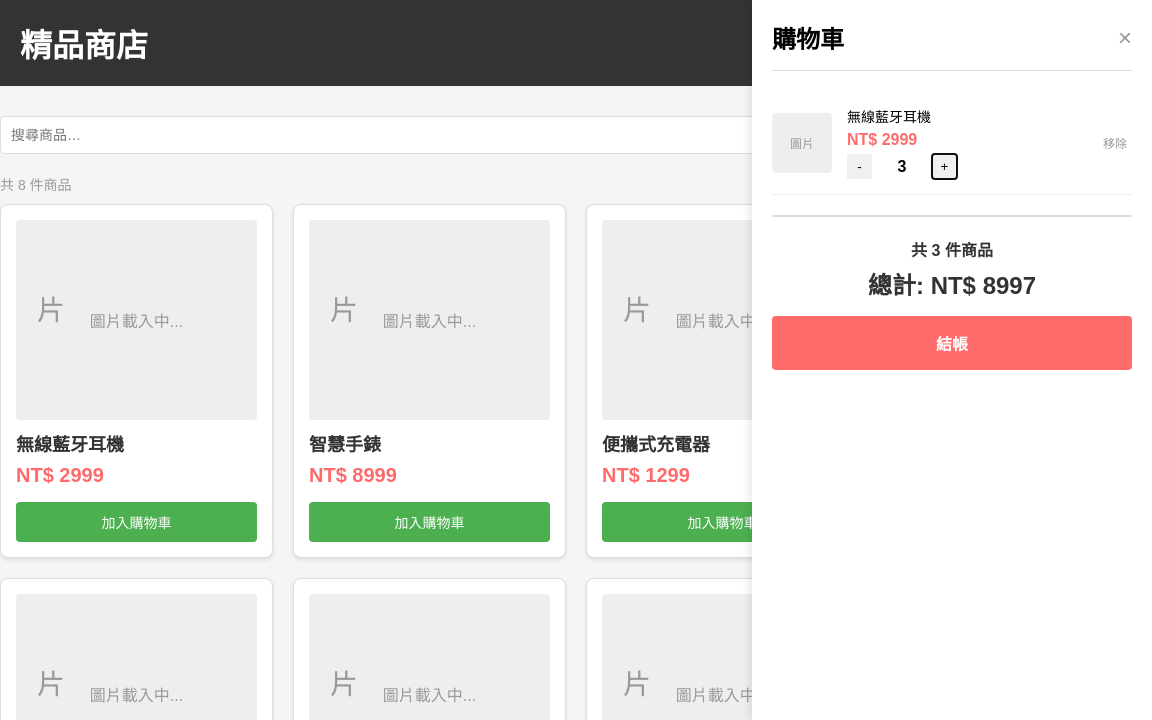
Ticket 06: change quantity repeatedly or type it directly › pressing − repeatedly lowers the quantity each time with the drawer open
Earlier steps of the test are not shown.
Step 1. Click the button "+" → (944, 166), box top-left (932, 154), bottom-right (957, 179)
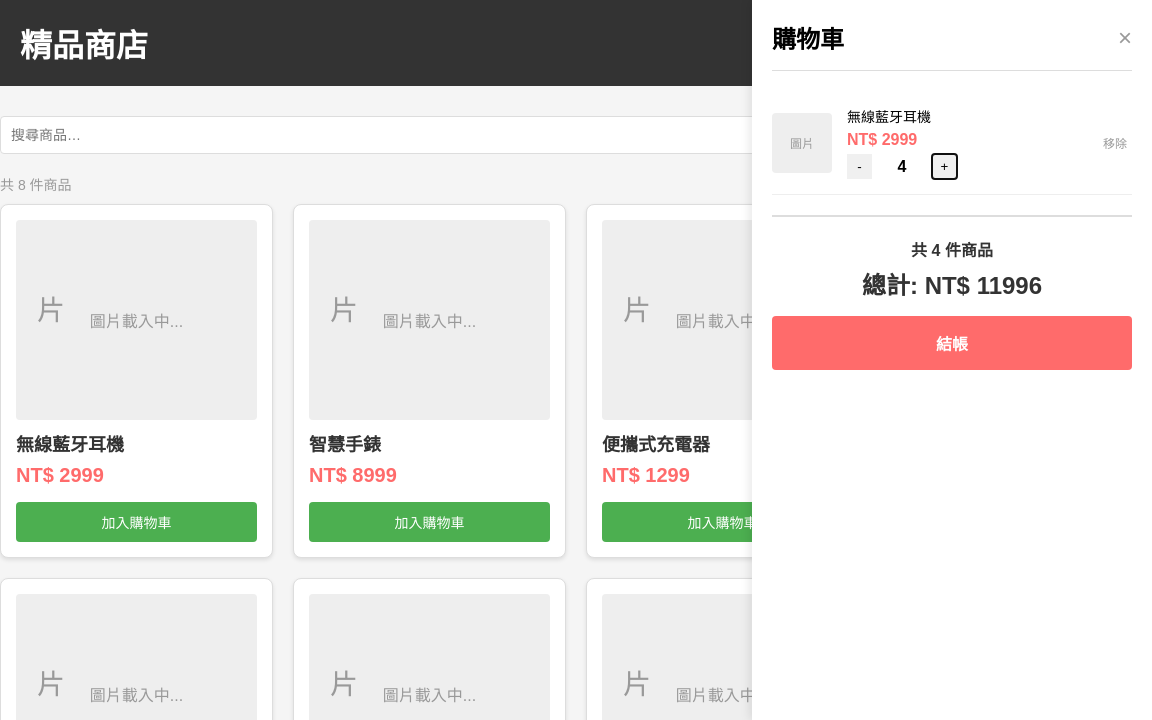
Step 2. Click the button "+" → (944, 166), box top-left (932, 154), bottom-right (957, 179)
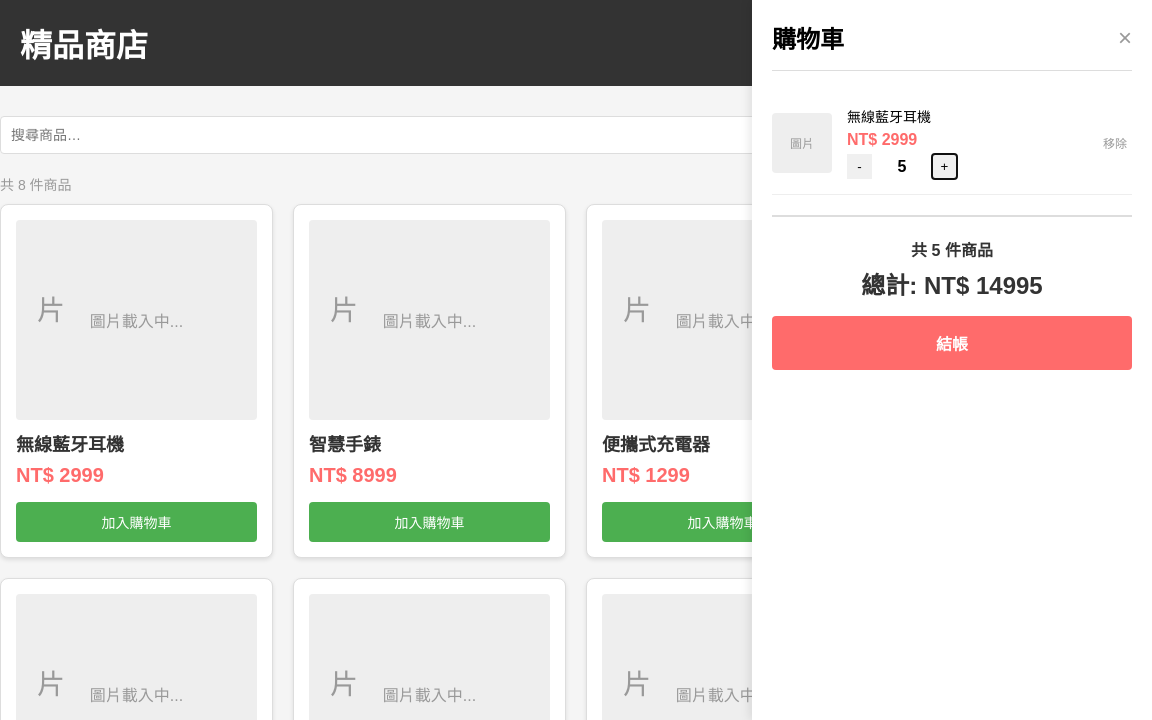
Step 3. Click the button named "減少 無線藍牙耳機 數量" → (860, 166), box top-left (847, 154), bottom-right (872, 179)
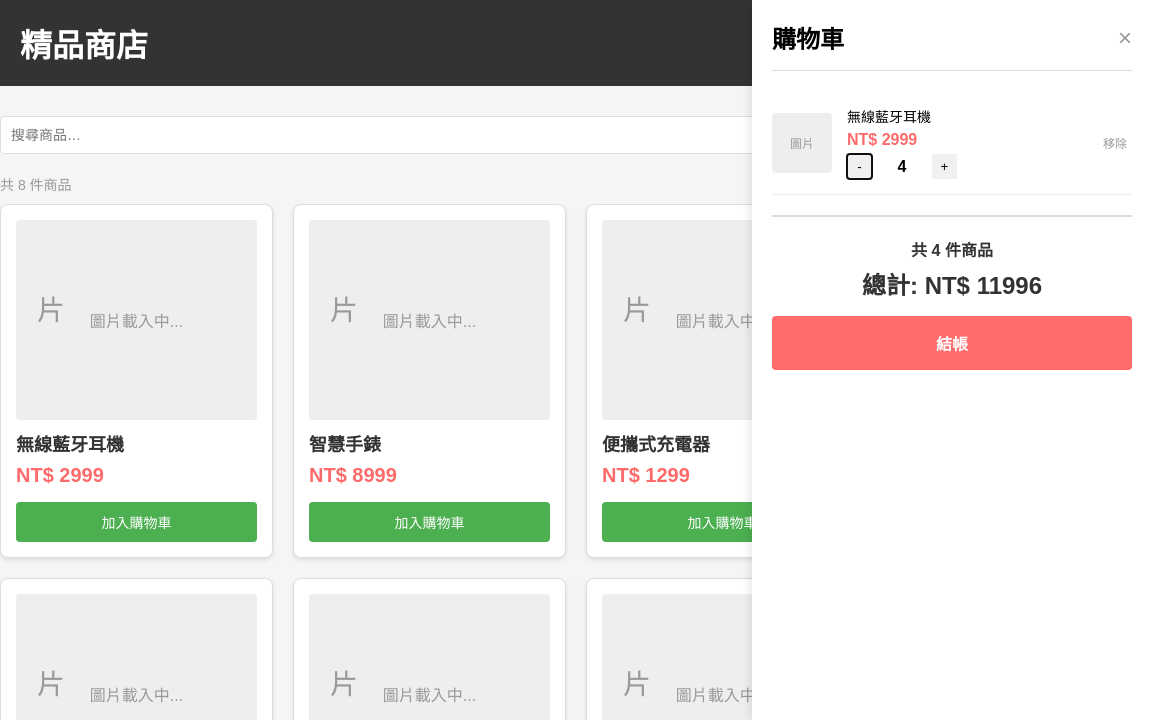
Now the number field named "無線藍牙耳機 數量" holds "4", box top-left (882, 158), bottom-right (922, 176)
Step 4. Click the button named "減少 無線藍牙耳機 數量" → (860, 166), box top-left (847, 154), bottom-right (872, 179)
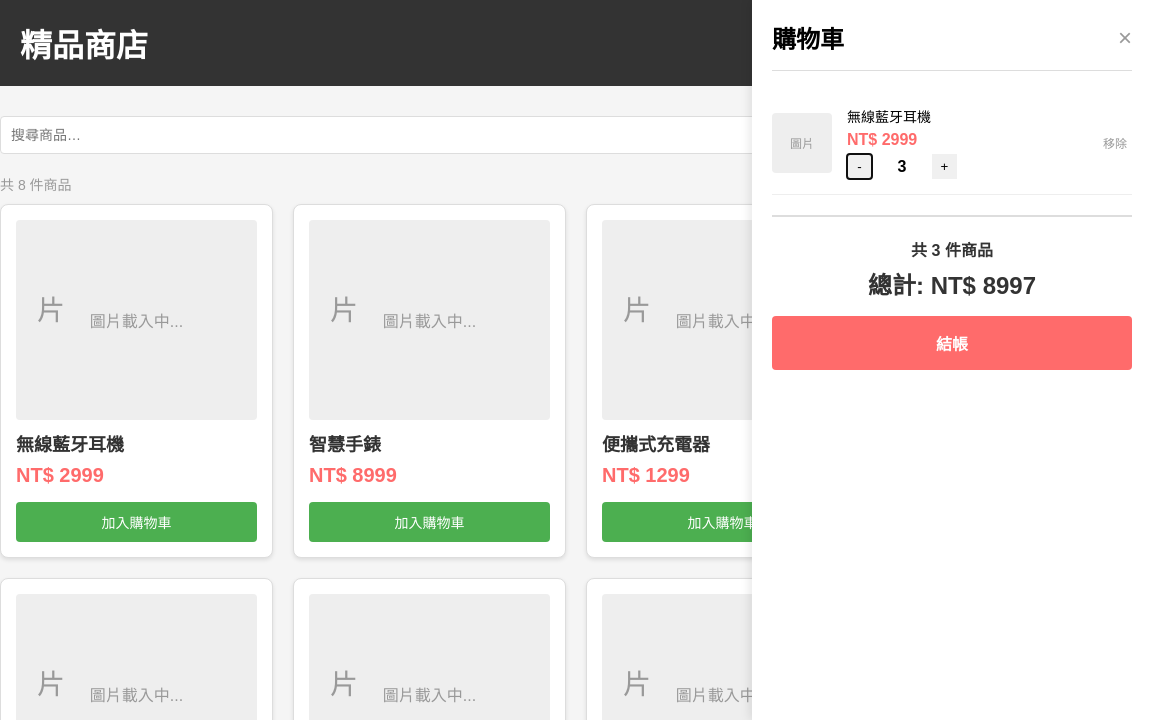
Now the number field named "無線藍牙耳機 數量" holds "3", box top-left (882, 158), bottom-right (922, 176)
Step 5. Click the button named "減少 無線藍牙耳機 數量" → (860, 166), box top-left (847, 154), bottom-right (872, 179)
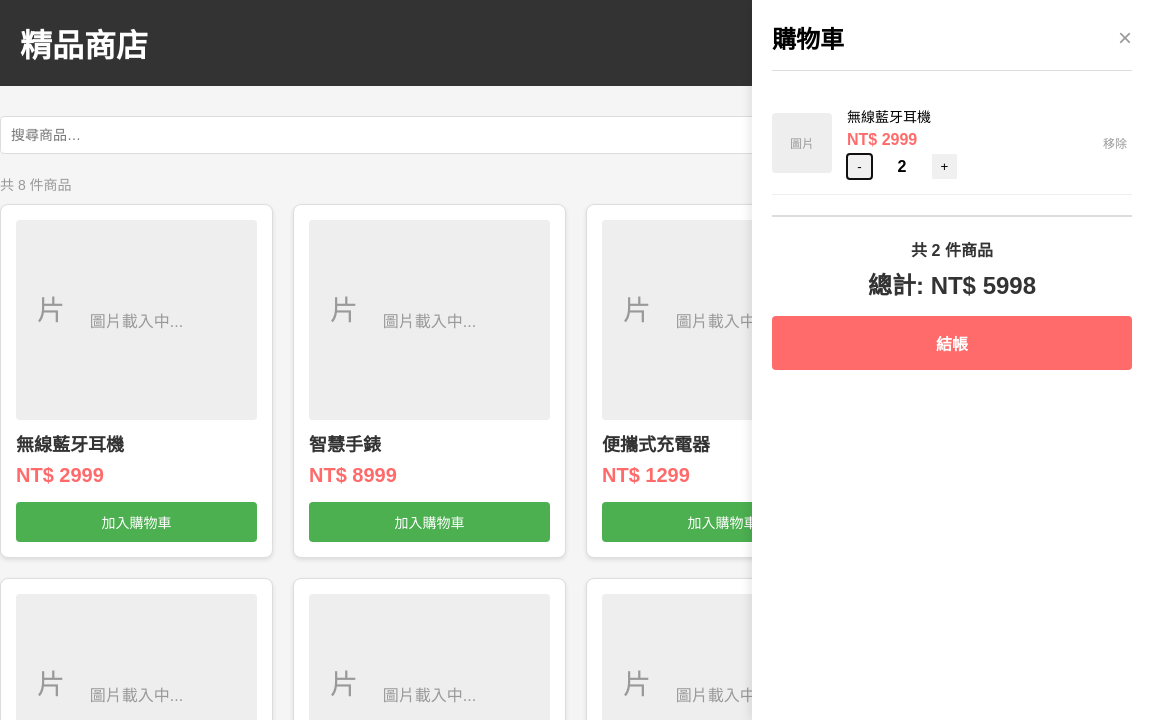
Now the number field named "無線藍牙耳機 數量" holds "2", box top-left (882, 158), bottom-right (922, 176)
Step 6. Click the button named "減少 無線藍牙耳機 數量" → (860, 166), box top-left (847, 154), bottom-right (872, 179)
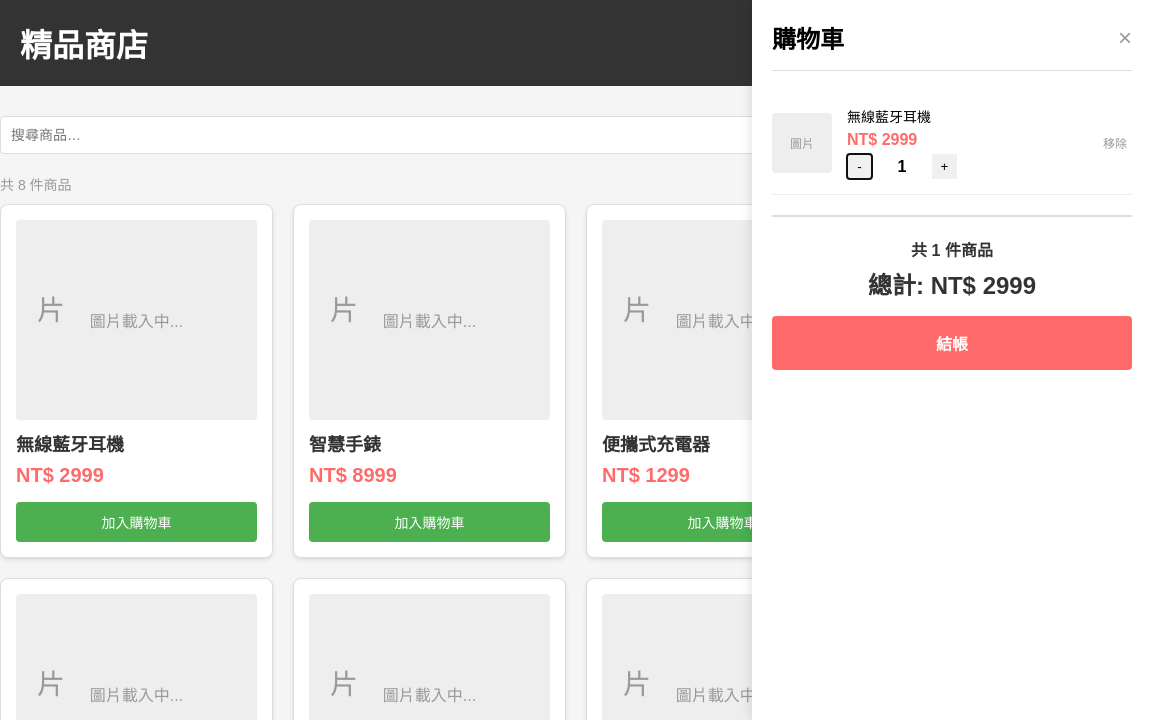
Now the number field named "無線藍牙耳機 數量" holds "1", box top-left (882, 158), bottom-right (922, 176)
